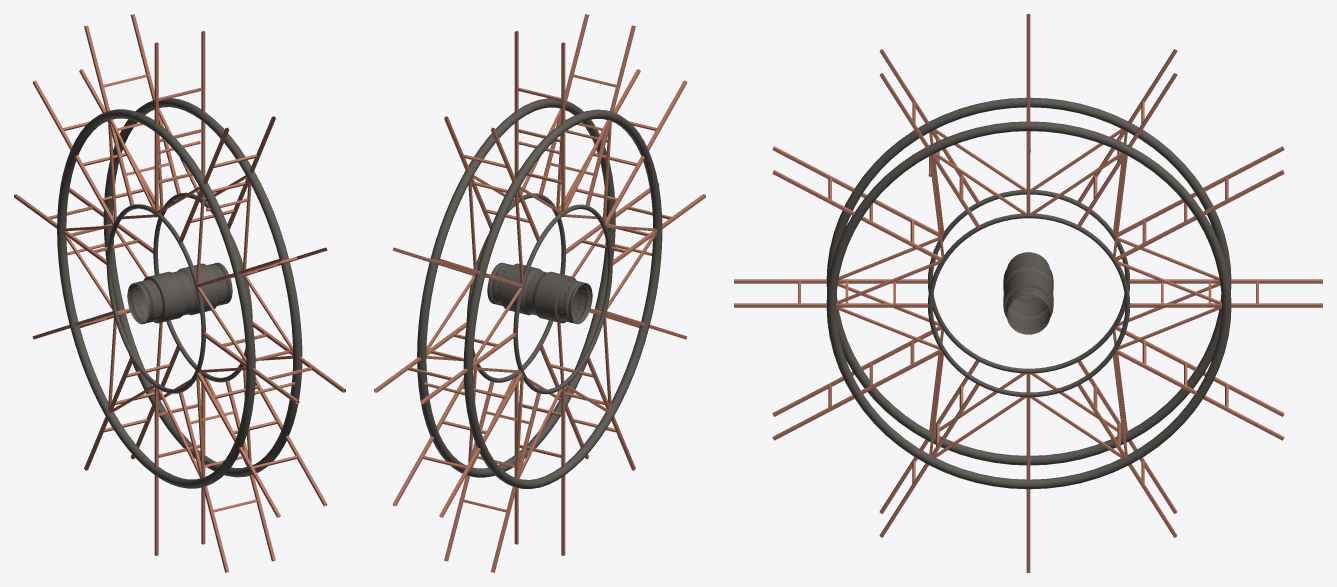
Rendered from ferris-moving.obj.
3 views of the same model, side by side, from view 1: azimuth 30°, elevation 25°; view 2: azimuth 150°, elevation 25°; view 3: azimuth 270°, elevation 25° (orthographic). The views are drawn at different scales.
Visible parts, largest first — view 1: Torus001, Cylinder001, Torus002, Line114, Line090, Line086, Line118, Line110, Line126, Line094, Line129, Line082 (+8 smaller); view 2: Torus001, Cylinder001, Torus002, Line082, Line106, Line086, Line102, Line110, Line124, Line078, Line128, Line090 (+8 smaller); view 3: Torus001, Torus002, Cylinder001, Line008, Line098, Line078, Line094, Line122, Line127, Line118, Line102, Line082 (+9 smaller).
Boxes of the visible parts, bbox=[...] form: Torus001: bbox=[57, 98, 302, 488]; Cylinder001: bbox=[127, 262, 232, 324]; Torus002: bbox=[106, 192, 252, 393]; Line114: bbox=[179, 380, 275, 572]; Line090: bbox=[84, 14, 180, 206]; Line086: bbox=[154, 31, 205, 212]; Line118: bbox=[196, 372, 327, 517]; Line110: bbox=[154, 376, 205, 555]; Line126: bbox=[108, 108, 201, 222]; Line094: bbox=[32, 69, 160, 225]; Line129: bbox=[156, 365, 251, 478]; Line082: bbox=[178, 116, 275, 242]; Torus001: bbox=[417, 98, 662, 488]; Cylinder001: bbox=[487, 262, 592, 324]; Torus002: bbox=[466, 193, 612, 394]; Line082: bbox=[539, 14, 635, 206]; Line106: bbox=[444, 381, 540, 572]; Line086: bbox=[514, 31, 565, 212]; Line102: bbox=[392, 373, 522, 517]; Line110: bbox=[514, 376, 565, 555]; Line124: bbox=[518, 108, 611, 223]; Line078: bbox=[559, 69, 687, 225]; Line128: bbox=[468, 365, 563, 478]; Line090: bbox=[444, 116, 541, 242]; Torus001: bbox=[826, 97, 1231, 489]; Torus002: bbox=[928, 190, 1130, 397]; Cylinder001: bbox=[1003, 252, 1053, 334]; Line008: bbox=[734, 279, 928, 307]; Line098: bbox=[1129, 279, 1322, 307]; Line078: bbox=[772, 146, 942, 261]; Line094: bbox=[1115, 146, 1284, 261]; Line122: bbox=[836, 237, 940, 350]; Line127: bbox=[1117, 237, 1221, 350]; Line118: bbox=[772, 326, 942, 440]; Line102: bbox=[1115, 326, 1284, 440]; Line082: bbox=[879, 49, 979, 227].
Size of the model in its own units: 1.46 by 8.49 by 8.49.
